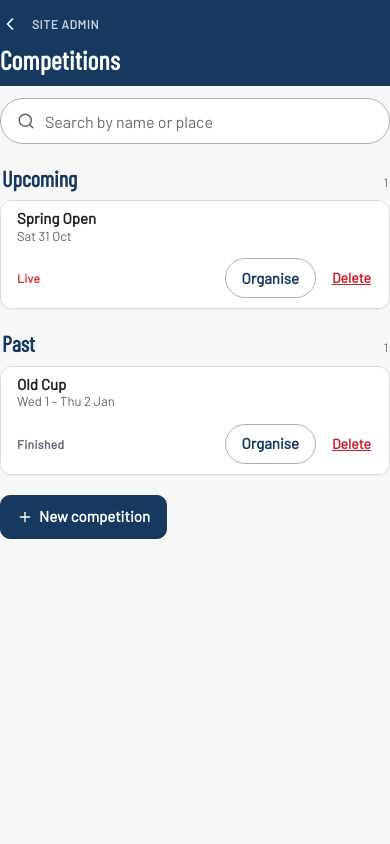
Test case: AdminCompetitionsPage › mentions that a live competition is running now, and reports a failed delete
The width and height of the screenshot is (390, 844).
Step 1. Click the button with aria-label "Delete Spring Open" → [352, 278], box 328,256 -> 375,300
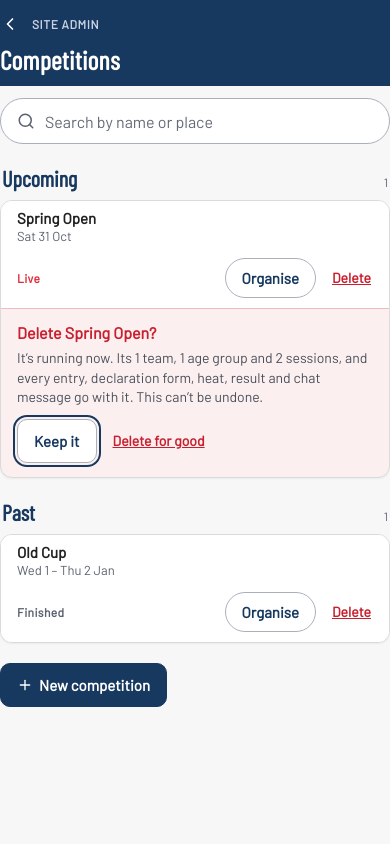
Expected: the dialog shows "It’s running now.", 17,349 -> 367,406
Step 2. Click the button "Delete for good" → [159, 441], box 108,419 -> 209,463
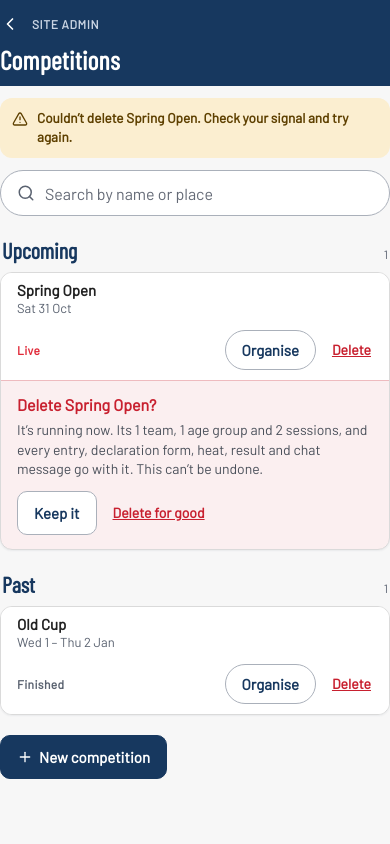
Expected: the message shows "Couldn’t delete Spring Open", 37,109 -> 348,145
